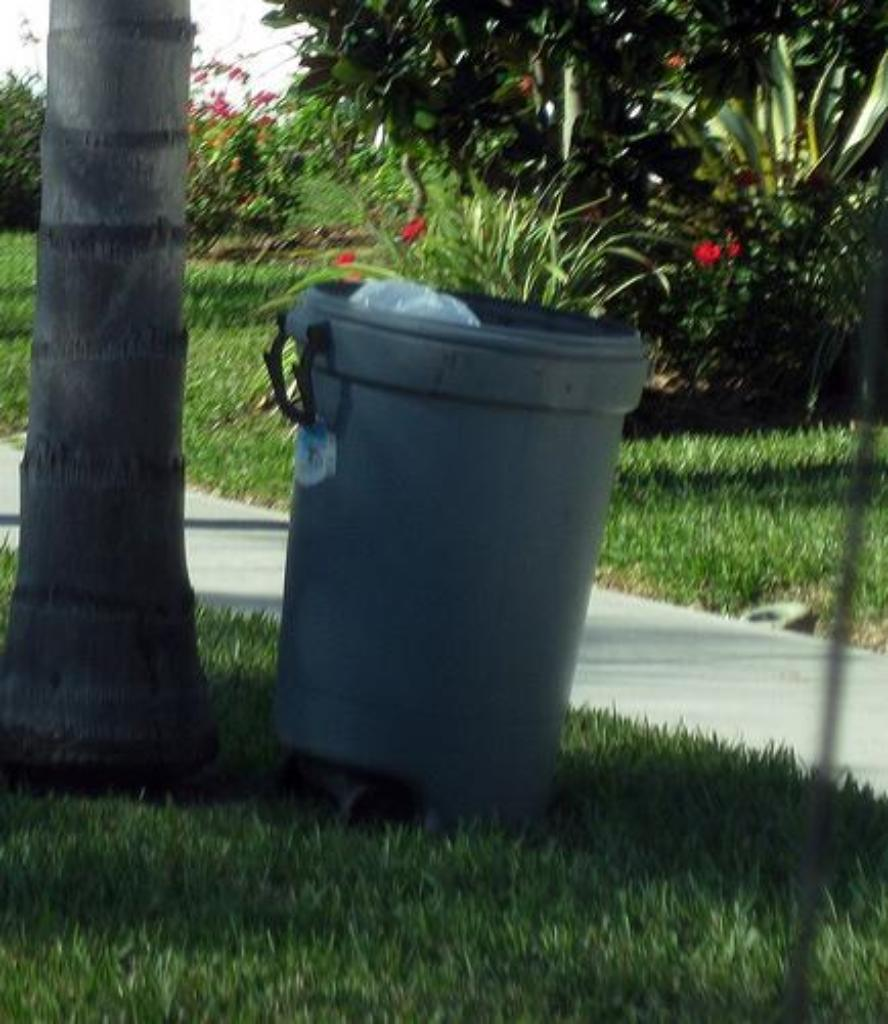dustbin: (286, 268, 655, 854)
